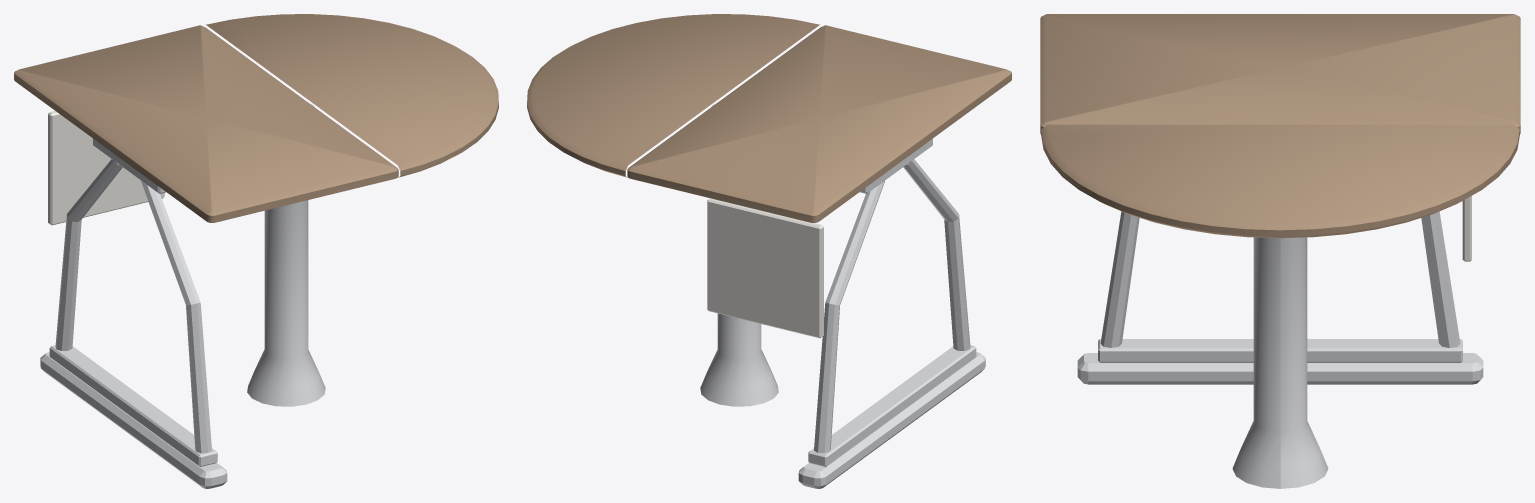
The model's file is hotel-and-resort-operations-conference-table-bow-end-b34f4d52__25918.glb.
The picture shows the model from 3 angles, left to right: view 1: azimuth 30°, elevation 25°; view 2: azimuth 150°, elevation 25°; view 3: azimuth 270°, elevation 25°; orthographic projection. The views are drawn at different scales.
Parts seen in each view (by area): view 1: conference-table-bow-end; view 2: conference-table-bow-end; view 3: conference-table-bow-end.
Part boxes in pixels (x1,y1,x2,y2): conference-table-bow-end: (14,14,498,488); conference-table-bow-end: (527,14,1011,488); conference-table-bow-end: (1040,14,1520,488).
Bounding box in the file's own units: 0.9484 × 0.73 × 0.9.
